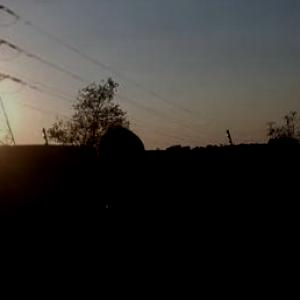follow: (62, 118, 206, 298)
